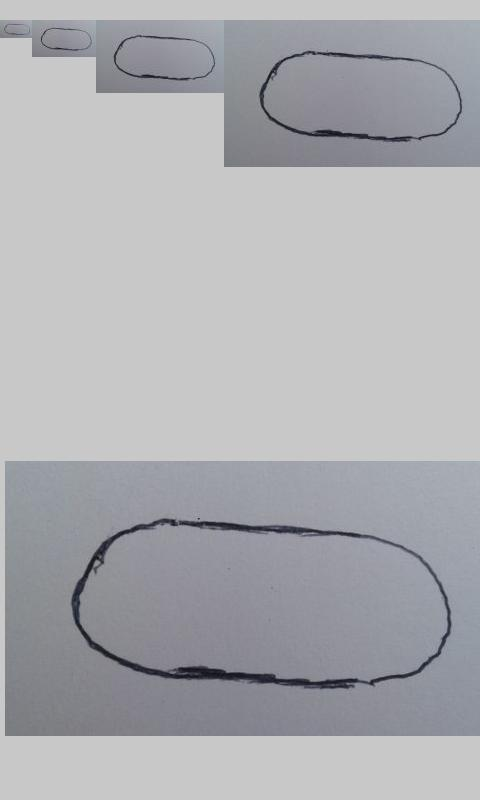chip: (70, 517, 453, 690), (258, 50, 463, 143), (114, 35, 216, 81), (40, 27, 93, 51), (3, 23, 31, 36)
